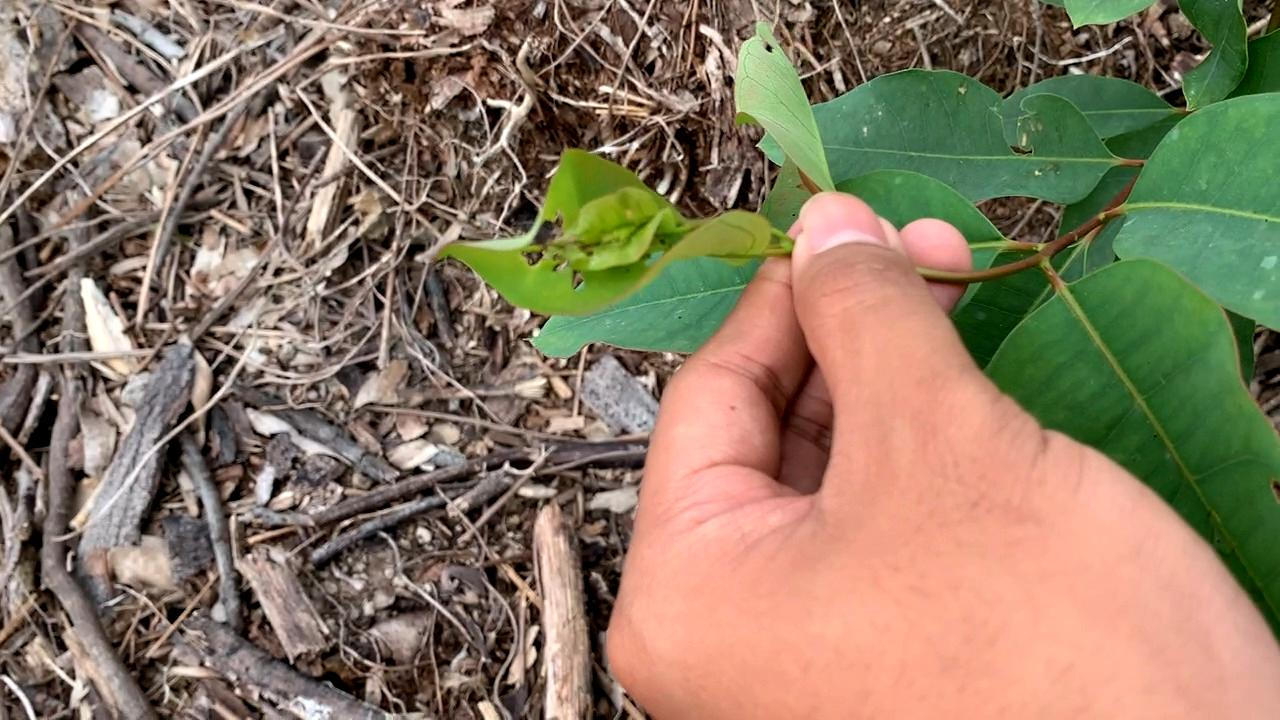Leaf Roller - Leaf: (446, 154, 786, 316)
